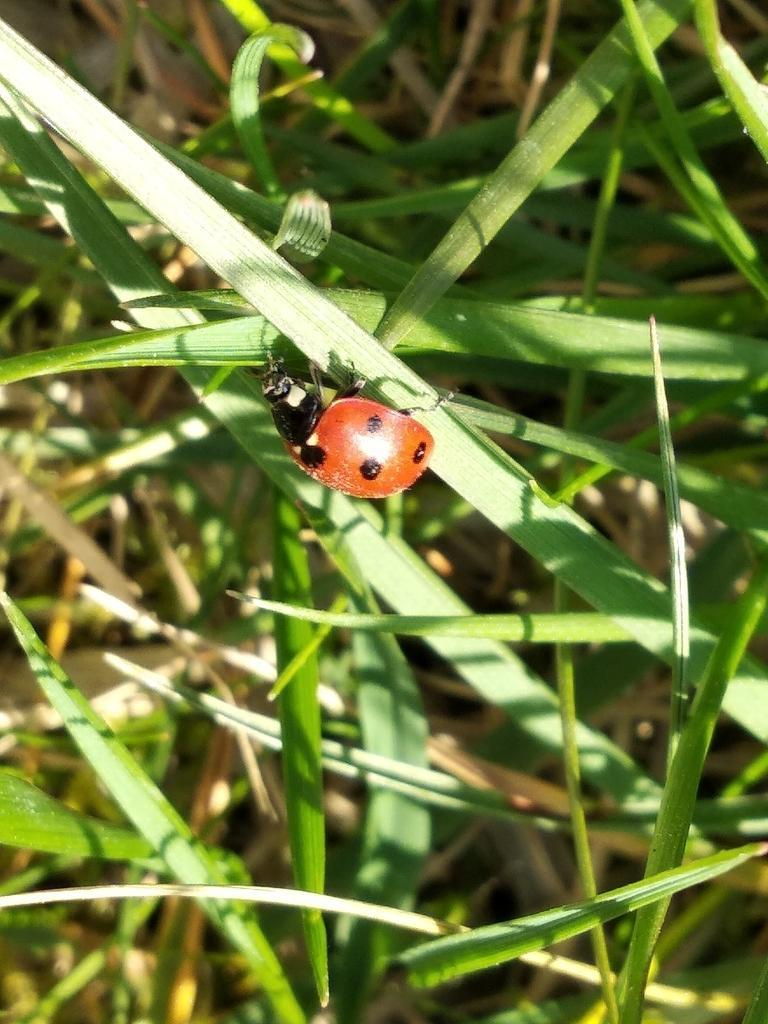ladybug: (255, 351, 441, 501)
